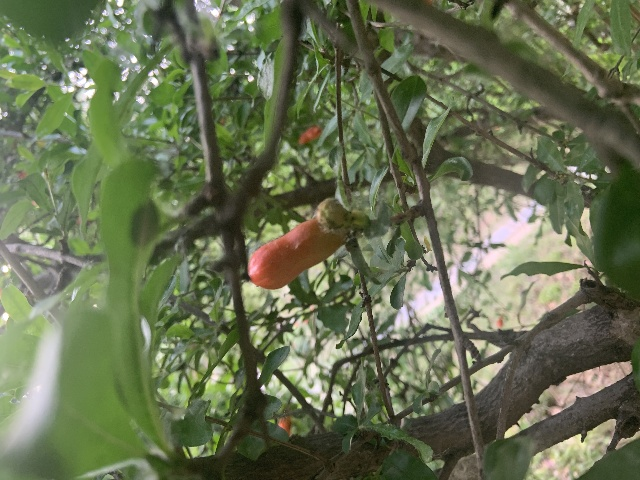bud: (247, 217, 345, 290)
